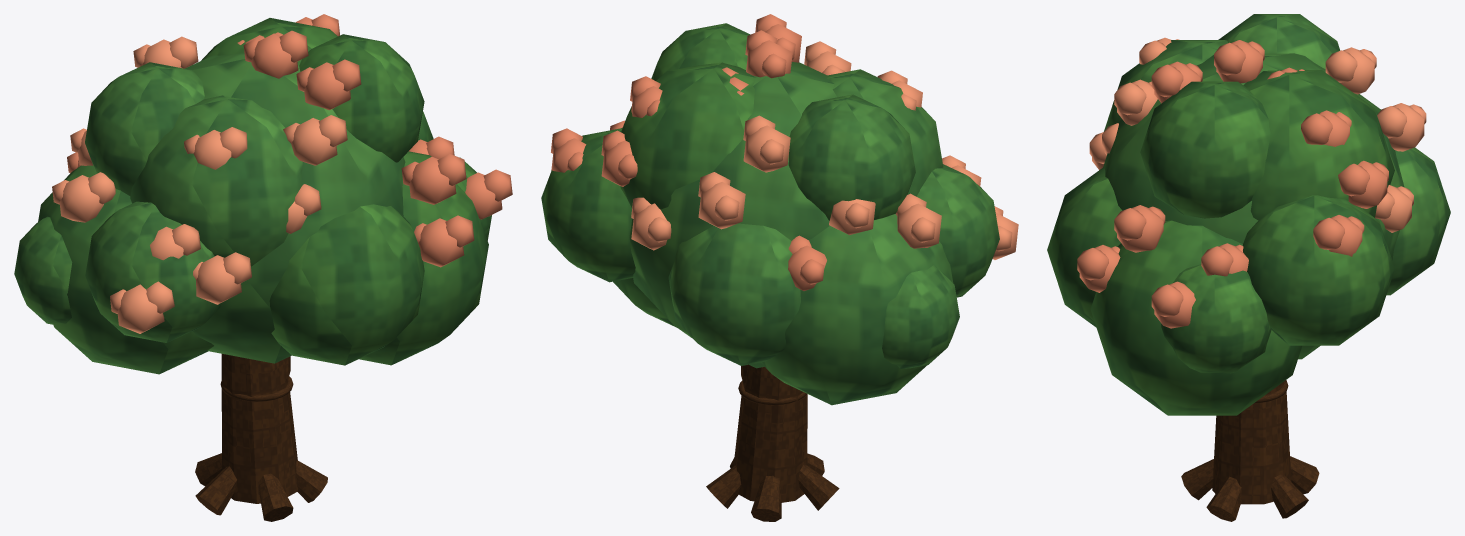
File: tree_phuong.glb
The picture shows the model from 3 angles, left to right: view 1: azimuth 30°, elevation 25°; view 2: azimuth 150°, elevation 25°; view 3: azimuth 270°, elevation 25°; orthographic projection. The views are drawn at different scales.
Parts seen in each view (by area): view 1: leaf5, leaf4, leaf0, leaf8, leaf10, trunk_low, leaf2, leaf1, leaf9, leaf12, leaf3, flower21 (+28 smaller); view 2: leaf2, leaf6, leaf0, leaf3, leaf10, leaf7, trunk_low, leaf8, leaf12, leaf4, leaf9, flower19 (+14 smaller); view 3: leaf1, leaf7, leaf9, leaf3, leaf11, leaf0, trunk_low, leaf5, leaf6, leaf10, leaf4, root0 (+27 smaller).
Part boxes in pixels (left/top/right/bottom): leaf5: left=269, top=204, right=424, bottom=365; leaf4: left=130, top=95, right=302, bottom=266; leaf0: left=185, top=53, right=405, bottom=363; leaf8: left=85, top=201, right=222, bottom=342; leaf10: left=85, top=62, right=204, bottom=196; trunk_low: left=221, top=354, right=297, bottom=503; leaf2: left=38, top=165, right=213, bottom=374; leaf1: left=359, top=151, right=488, bottom=365; leaf9: left=299, top=34, right=424, bottom=162; leaf12: left=14, top=216, right=72, bottom=324; leaf3: left=201, top=18, right=337, bottom=65; flower21: left=117, top=284, right=164, bottom=333; leaf2: left=761, top=214, right=953, bottom=405; leaf6: left=668, top=223, right=800, bottom=365; leaf0: left=629, top=62, right=836, bottom=368; leaf3: left=620, top=62, right=755, bottom=209; leaf10: left=788, top=94, right=915, bottom=220; leaf7: left=541, top=128, right=635, bottom=282; trunk_low: left=733, top=364, right=807, bottom=502; leaf8: left=916, top=164, right=999, bottom=297; leaf12: left=882, top=265, right=959, bottom=368; leaf4: left=827, top=69, right=943, bottom=196; leaf9: left=651, top=23, right=750, bottom=80; flower19: left=698, top=182, right=745, bottom=229; leaf1: left=1090, top=220, right=1301, bottom=415; leaf7: left=1242, top=195, right=1394, bottom=345; leaf9: left=1140, top=81, right=1270, bottom=218; leaf3: left=1243, top=70, right=1394, bottom=220; leaf11: left=1161, top=264, right=1271, bottom=373; leaf0: left=1103, top=53, right=1404, bottom=359; trunk_low: left=1212, top=380, right=1291, bottom=504; leaf5: left=1047, top=167, right=1122, bottom=327; leaf6: left=1386, top=147, right=1450, bottom=295; leaf10: left=1218, top=14, right=1340, bottom=68; leaf4: left=1104, top=40, right=1227, bottom=131; root0: left=1206, top=476, right=1241, bottom=521.
Size of the model in its own units: 3.88 by 4.19 by 3.25.
Materials: 5 (3 with a texture image).
